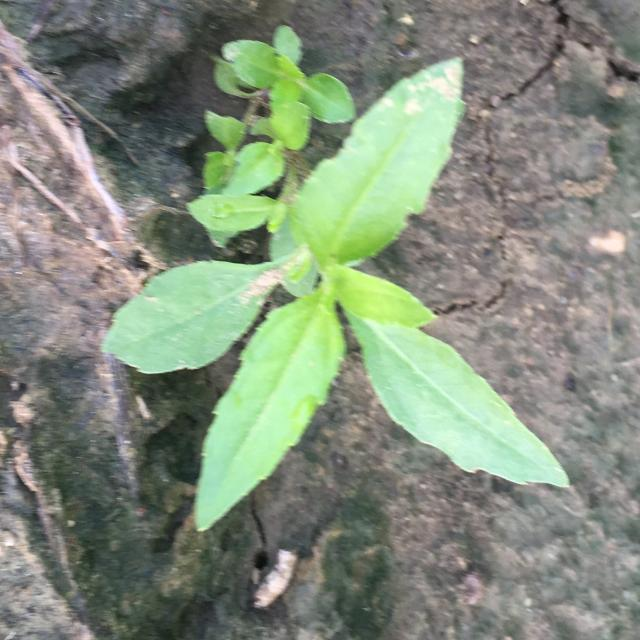Eclipta: (102, 24, 570, 528)
